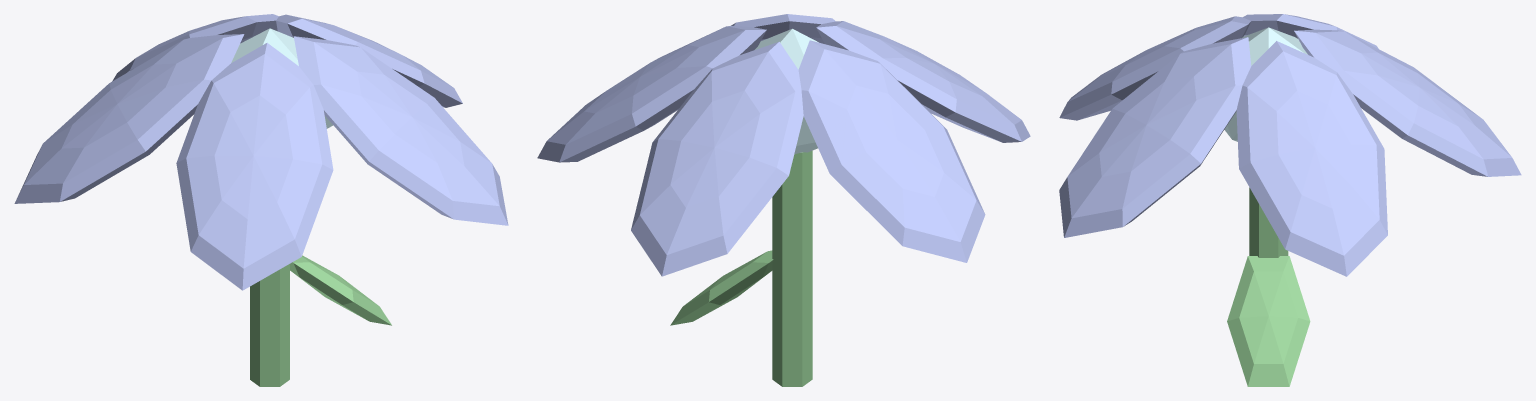
Rendered from bloom.fbx.
The picture shows the model from 3 angles, left to right: view 1: azimuth 30°, elevation 25°; view 2: azimuth 150°, elevation 25°; view 3: azimuth 270°, elevation 25°; orthographic projection. The views are drawn at different scales.
Visible parts, largest first — view 1: bloom.Main, bloom.Leaf, bloom.Glow; view 2: bloom.Main, bloom.Leaf, bloom.Glow; view 3: bloom.Main, bloom.Leaf, bloom.Glow.
Boxes of the visible parts, <box> form: bloom.Main: <box>14,14,508,290</box>; bloom.Leaf: <box>250,255,391,386</box>; bloom.Glow: <box>231,28,333,128</box>; bloom.Main: <box>537,14,1030,276</box>; bloom.Leaf: <box>670,150,812,386</box>; bloom.Glow: <box>755,28,818,154</box>; bloom.Main: <box>1059,14,1521,276</box>; bloom.Leaf: <box>1227,187,1310,386</box>; bloom.Glow: <box>1224,27,1307,141</box>.
Bounding box in the file's own units: 1.73 × 1.35 × 1.66.
